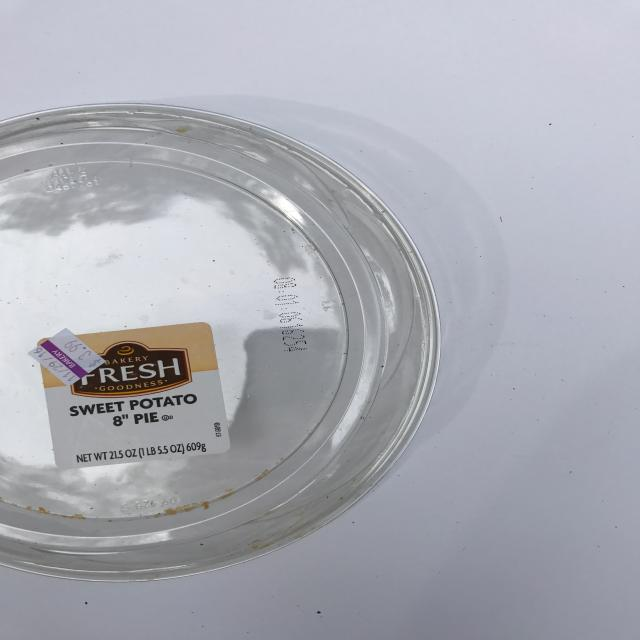Plastic: (0, 81, 454, 594)
